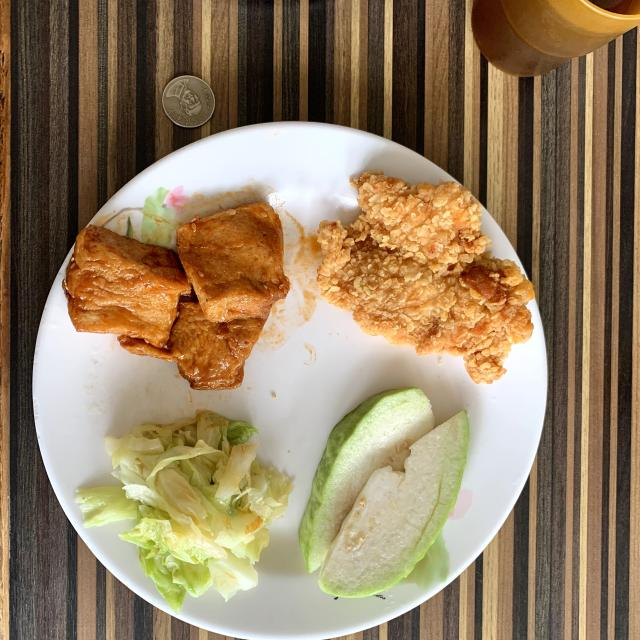cabbage: (79, 411, 292, 611)
coin: (162, 75, 215, 128)
creamy tofu: (62, 202, 290, 390)
fried chicken cutlet: (318, 172, 532, 382)
guava -sliced-: (299, 388, 469, 598)
